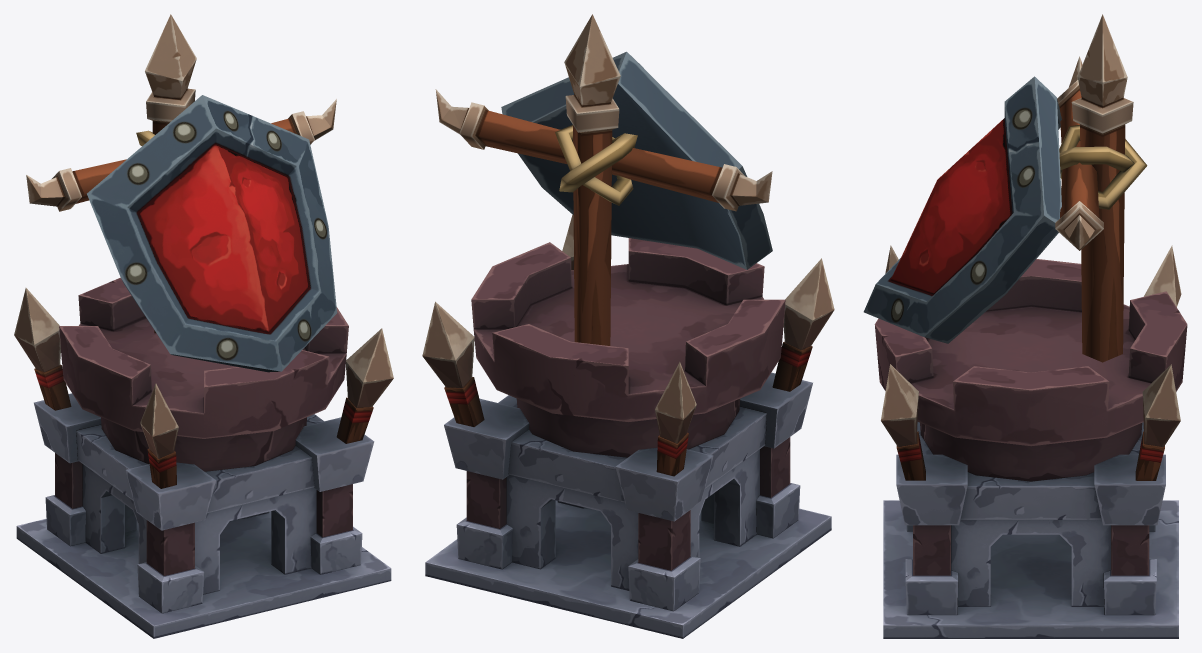
Rendered from building_06.FBX.
3 renders of one model, left to right at view 1: azimuth 30°, elevation 25°; view 2: azimuth 150°, elevation 25°; view 3: azimuth 270°, elevation 25°, orthographic. The views are drawn at different scales.
Parts seen in each view (by area): view 1: Box005; view 2: Box005; view 3: Box005.
Part boxes in pixels (x1,y1,x2,y2): Box005: (14, 14, 393, 638); Box005: (422, 14, 834, 638); Box005: (863, 14, 1187, 638).
Bounding box in the file's own units: 483 × 774 × 404.
